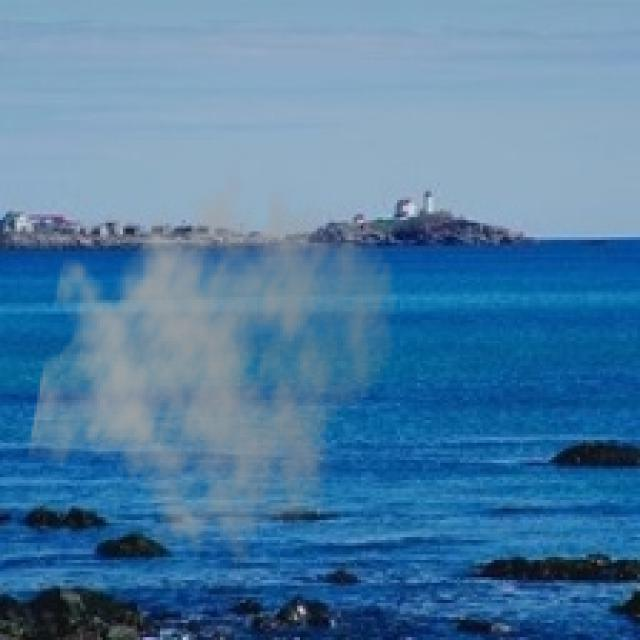Smoke: (26, 146, 400, 572)
